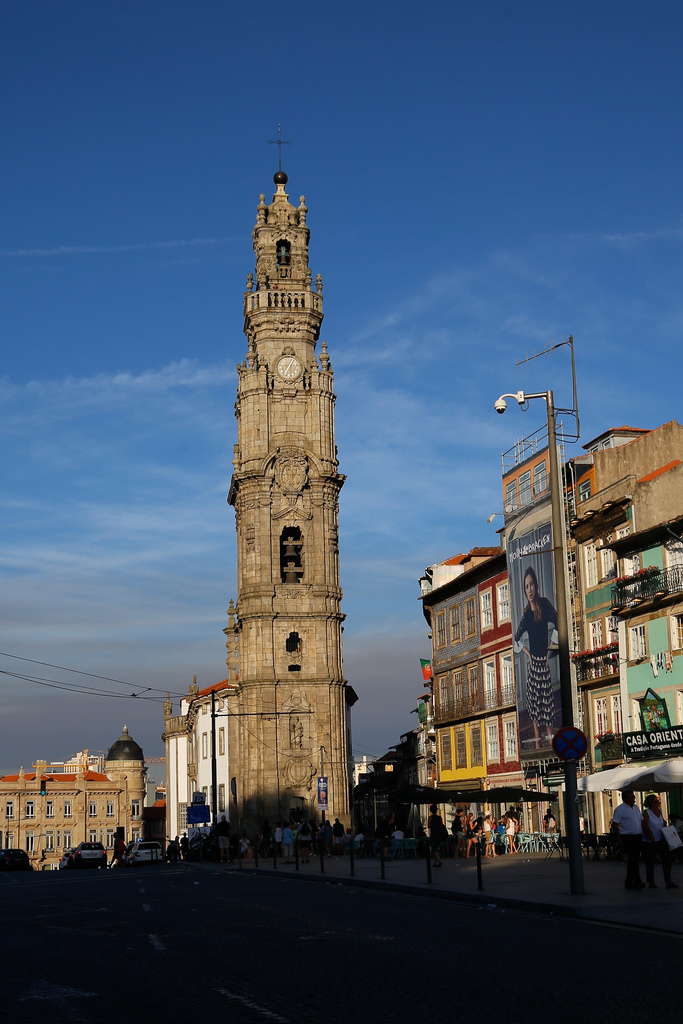clerigos: (223, 127, 361, 850)
